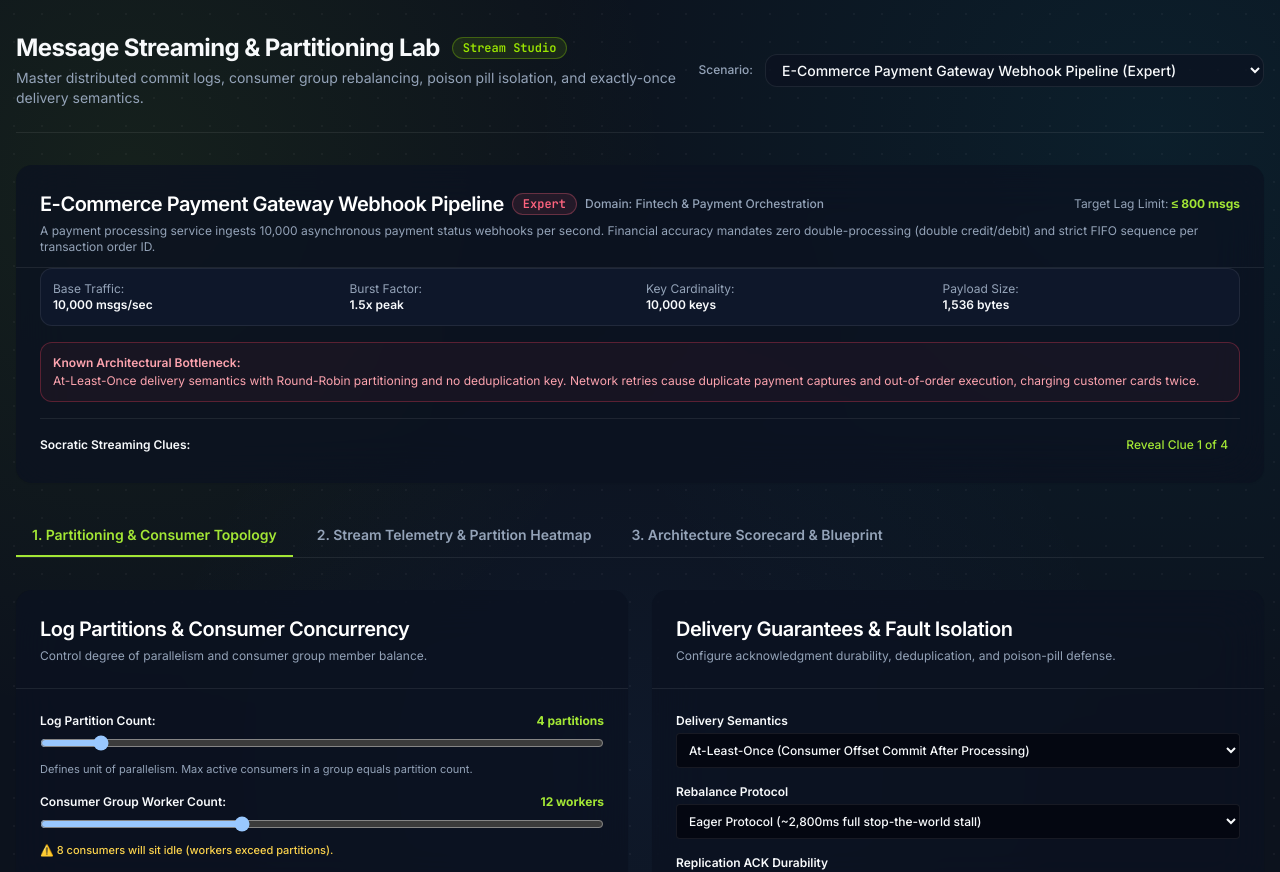
StreamLabPage › switches to a different scenario from the dropdown
Select "Distributed Order Fulfillment Saga & Poison Pill Defense (Advanced)" in the dropdown labelled "Scenario:" at [1014, 70], box [765,54,1264,86]
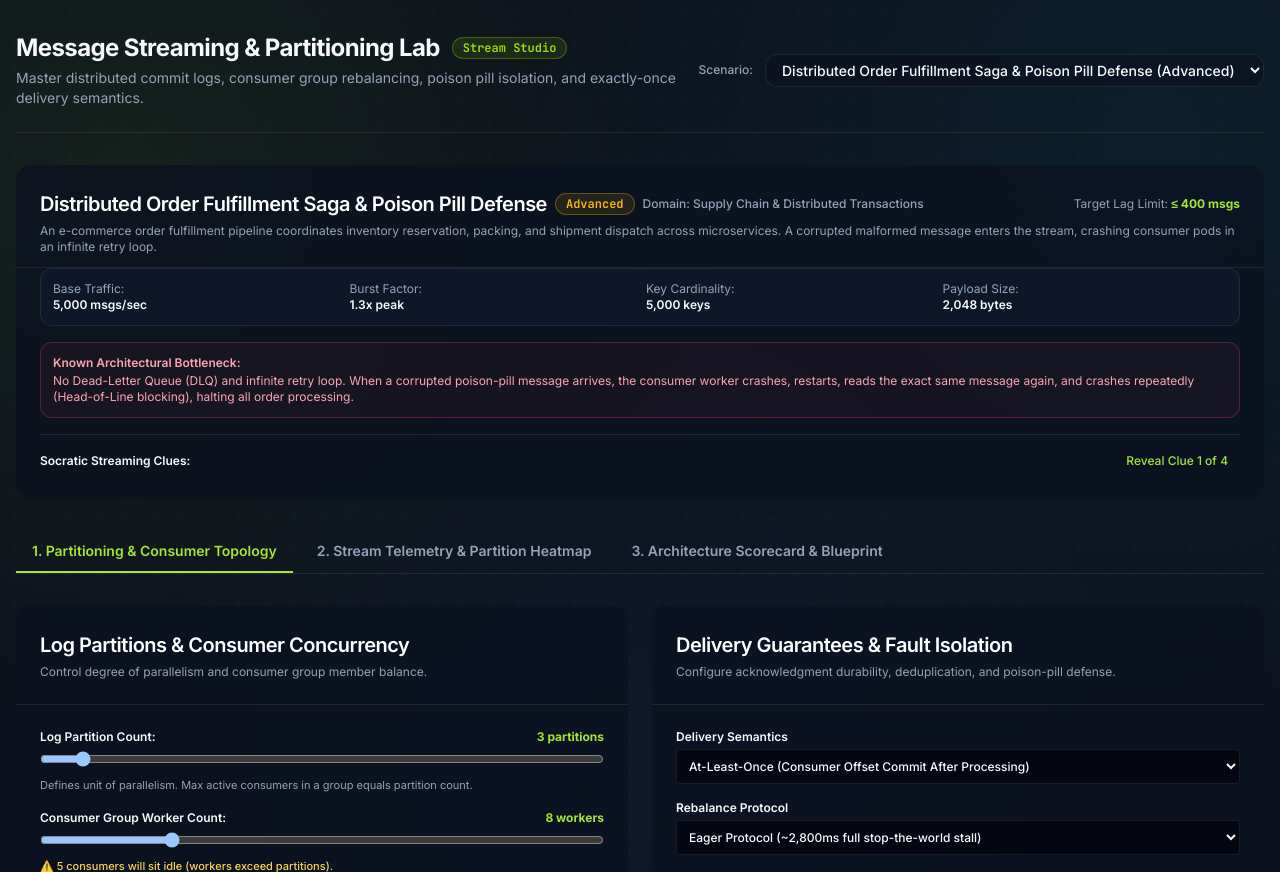
expect the heading "Distributed Order Fulfillment Saga & Poison Pill Defense" is shown: met, box [40,189,547,219]
